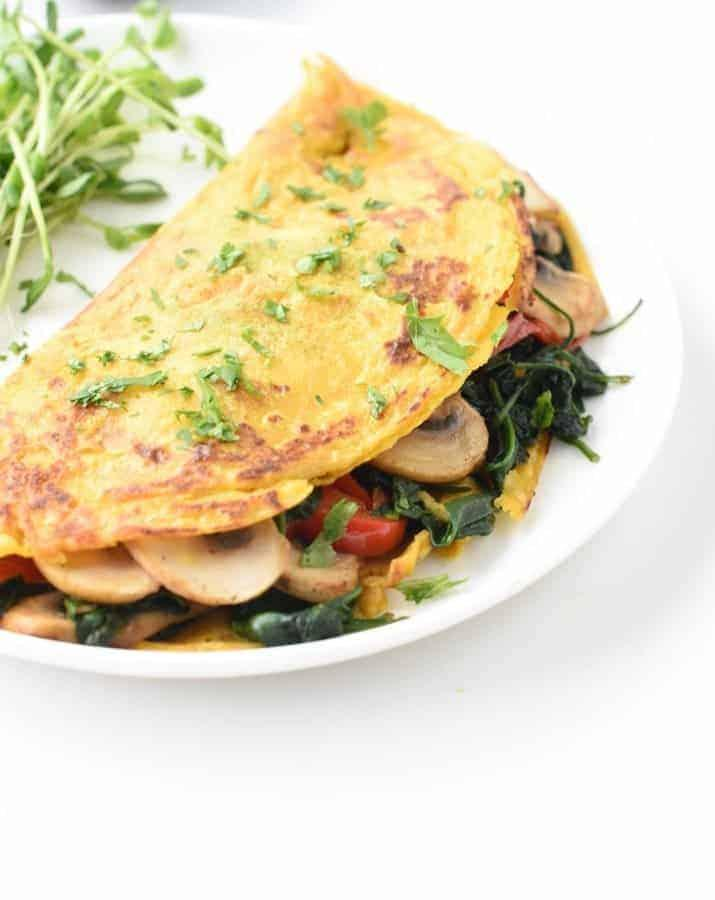omelette: (23, 111, 595, 635)
